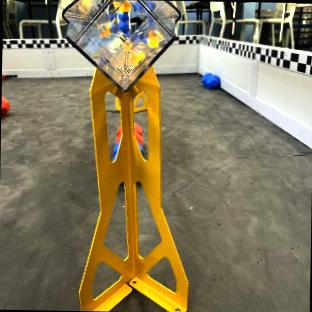Goal: (62, 0, 187, 311)
V5_BLUE: (202, 73, 219, 88)
V5_RED: (1, 96, 10, 115)
